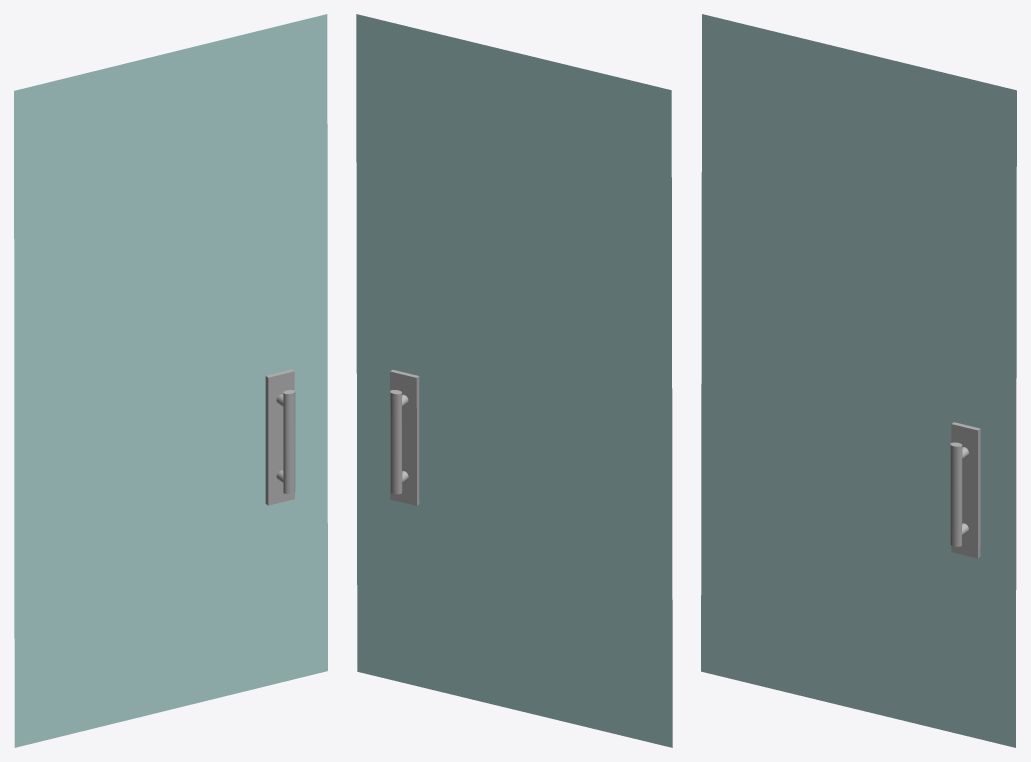
File: GlassDoor_mesh 1.fbx
3 renders of one model, left to right at view 1: azimuth 30°, elevation 25°; view 2: azimuth 150°, elevation 25°; view 3: azimuth 330°, elevation 25°, orthographic.
Visible parts, largest first — view 1: GlassDoor_mesh; view 2: GlassDoor_mesh; view 3: GlassDoor_mesh.
Part boxes in pixels (x1,y1,x2,y2): GlassDoor_mesh: (14, 14, 327, 747); GlassDoor_mesh: (356, 14, 672, 747); GlassDoor_mesh: (701, 14, 1016, 747).
Size of the model in its own units: 460 by 918 by 65.52.
